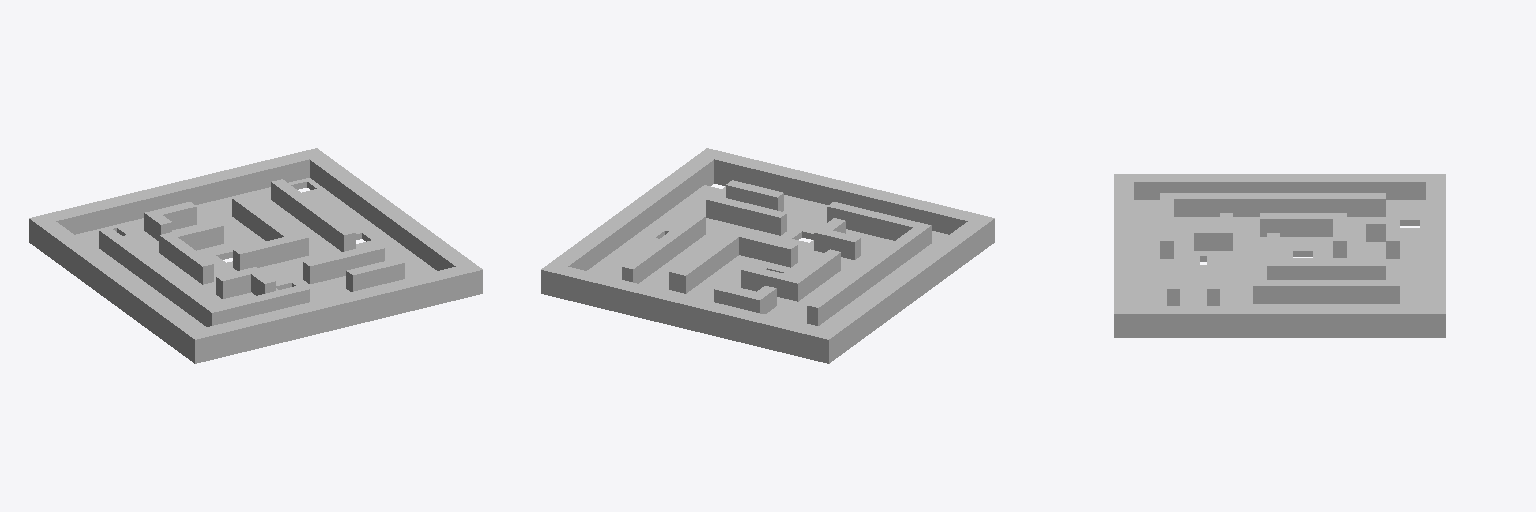
File: board.obj
3 renders of one model, left to right at view 1: azimuth 30°, elevation 25°; view 2: azimuth 150°, elevation 25°; view 3: azimuth 270°, elevation 25°, orthographic.
Bounding box in the file's own units: 50 × 4 × 50.